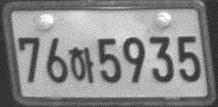3: (148, 35, 174, 83)
5: (177, 35, 201, 83), (96, 37, 121, 83)
6: (45, 36, 68, 83)
7: (16, 35, 41, 83)
9: (121, 35, 146, 84)
하: (68, 45, 94, 84)
